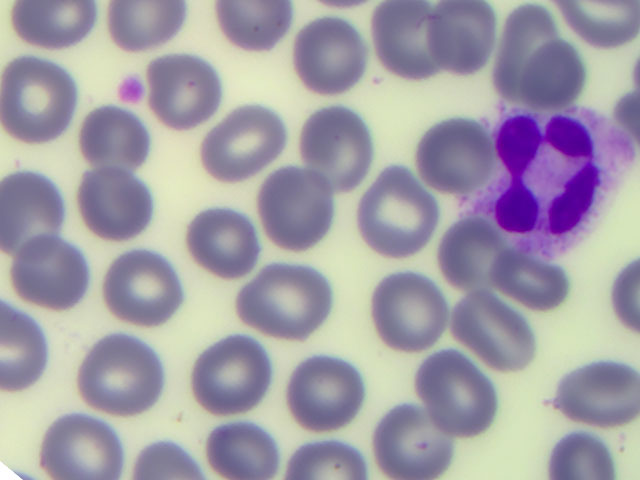Platelets: (113, 74, 148, 109)
RBC: (560, 349, 640, 432), (76, 104, 155, 187), (81, 167, 160, 250), (10, 231, 89, 314), (106, 243, 185, 326), (77, 335, 156, 418), (42, 397, 121, 480), (190, 333, 269, 416), (244, 255, 323, 338), (187, 209, 266, 292), (247, 167, 326, 250), (305, 108, 384, 191), (201, 101, 280, 184), (155, 52, 234, 135), (289, 15, 368, 98), (477, 1, 556, 84), (513, 29, 592, 112), (410, 114, 489, 197), (355, 171, 434, 254), (370, 267, 449, 350), (289, 353, 368, 436), (199, 397, 278, 480), (379, 397, 458, 480), (411, 350, 490, 433), (456, 286, 535, 369), (494, 246, 573, 329), (441, 212, 520, 295), (366, 1, 445, 83), (429, 1, 508, 83), (1, 58, 79, 141), (1, 166, 79, 249), (220, 1, 296, 62), (21, 1, 97, 62)
WBC: (477, 107, 617, 243)
